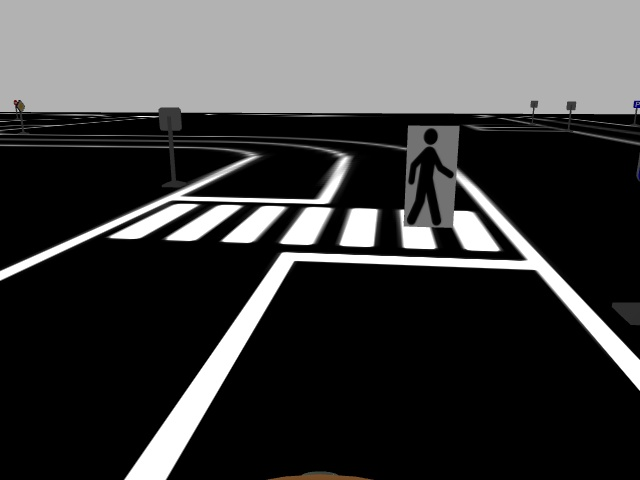pedestrian: (402, 123, 460, 226)
